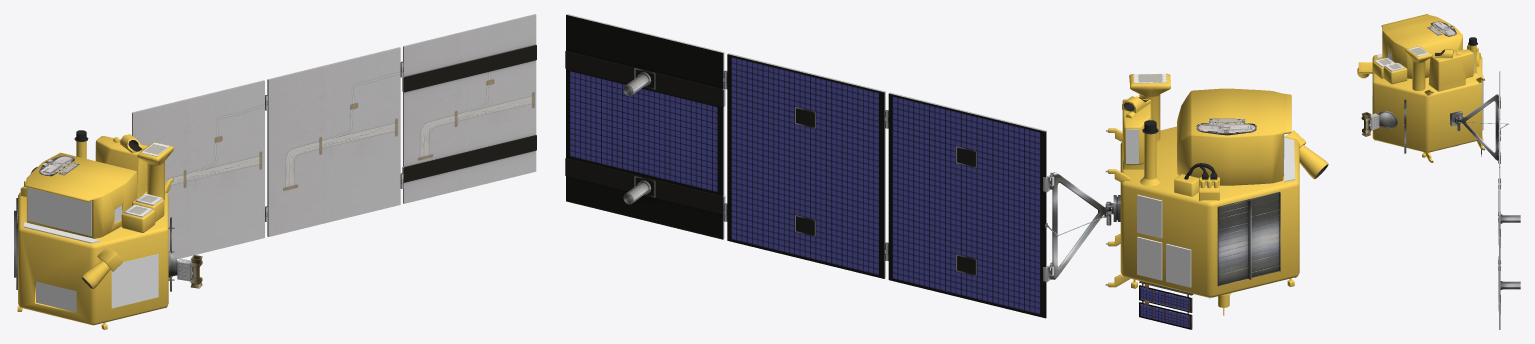
The picture shows the model from 3 angles, left to right: view 1: azimuth 30°, elevation 25°; view 2: azimuth 150°, elevation 25°; view 3: azimuth 270°, elevation 25°; orthographic projection. The views are drawn at different scales.
Visible parts, largest first — view 1: instruments, BUS, radiator, reflectors, tracker; view 2: instruments, BUS, radiator, reflectors, tracker; view 3: BUS, instruments, tracker, hyperion sensor assembly, radiator.
Part boxes in pixels (bbox=[...]): instruments: bbox=[14, 14, 536, 325]; BUS: bbox=[17, 136, 173, 329]; radiator: bbox=[27, 187, 158, 308]; reflectors: bbox=[23, 142, 122, 312]; tracker: bbox=[81, 246, 123, 289]; instruments: bbox=[565, 14, 1296, 329]; BUS: bbox=[1108, 73, 1299, 315]; radiator: bbox=[1137, 134, 1284, 287]; reflectors: bbox=[1126, 129, 1295, 182]; tracker: bbox=[1285, 130, 1328, 179]; BUS: bbox=[1372, 14, 1484, 162]; instruments: bbox=[1361, 21, 1520, 329]; tracker: bbox=[1357, 62, 1372, 78]; hyperion sensor assembly: bbox=[1435, 49, 1453, 58]; radiator: bbox=[1372, 74, 1483, 130].
Size of the model in its own units: 5.4 by 1.54 by 1.85.
7 materials, 2 textured.
